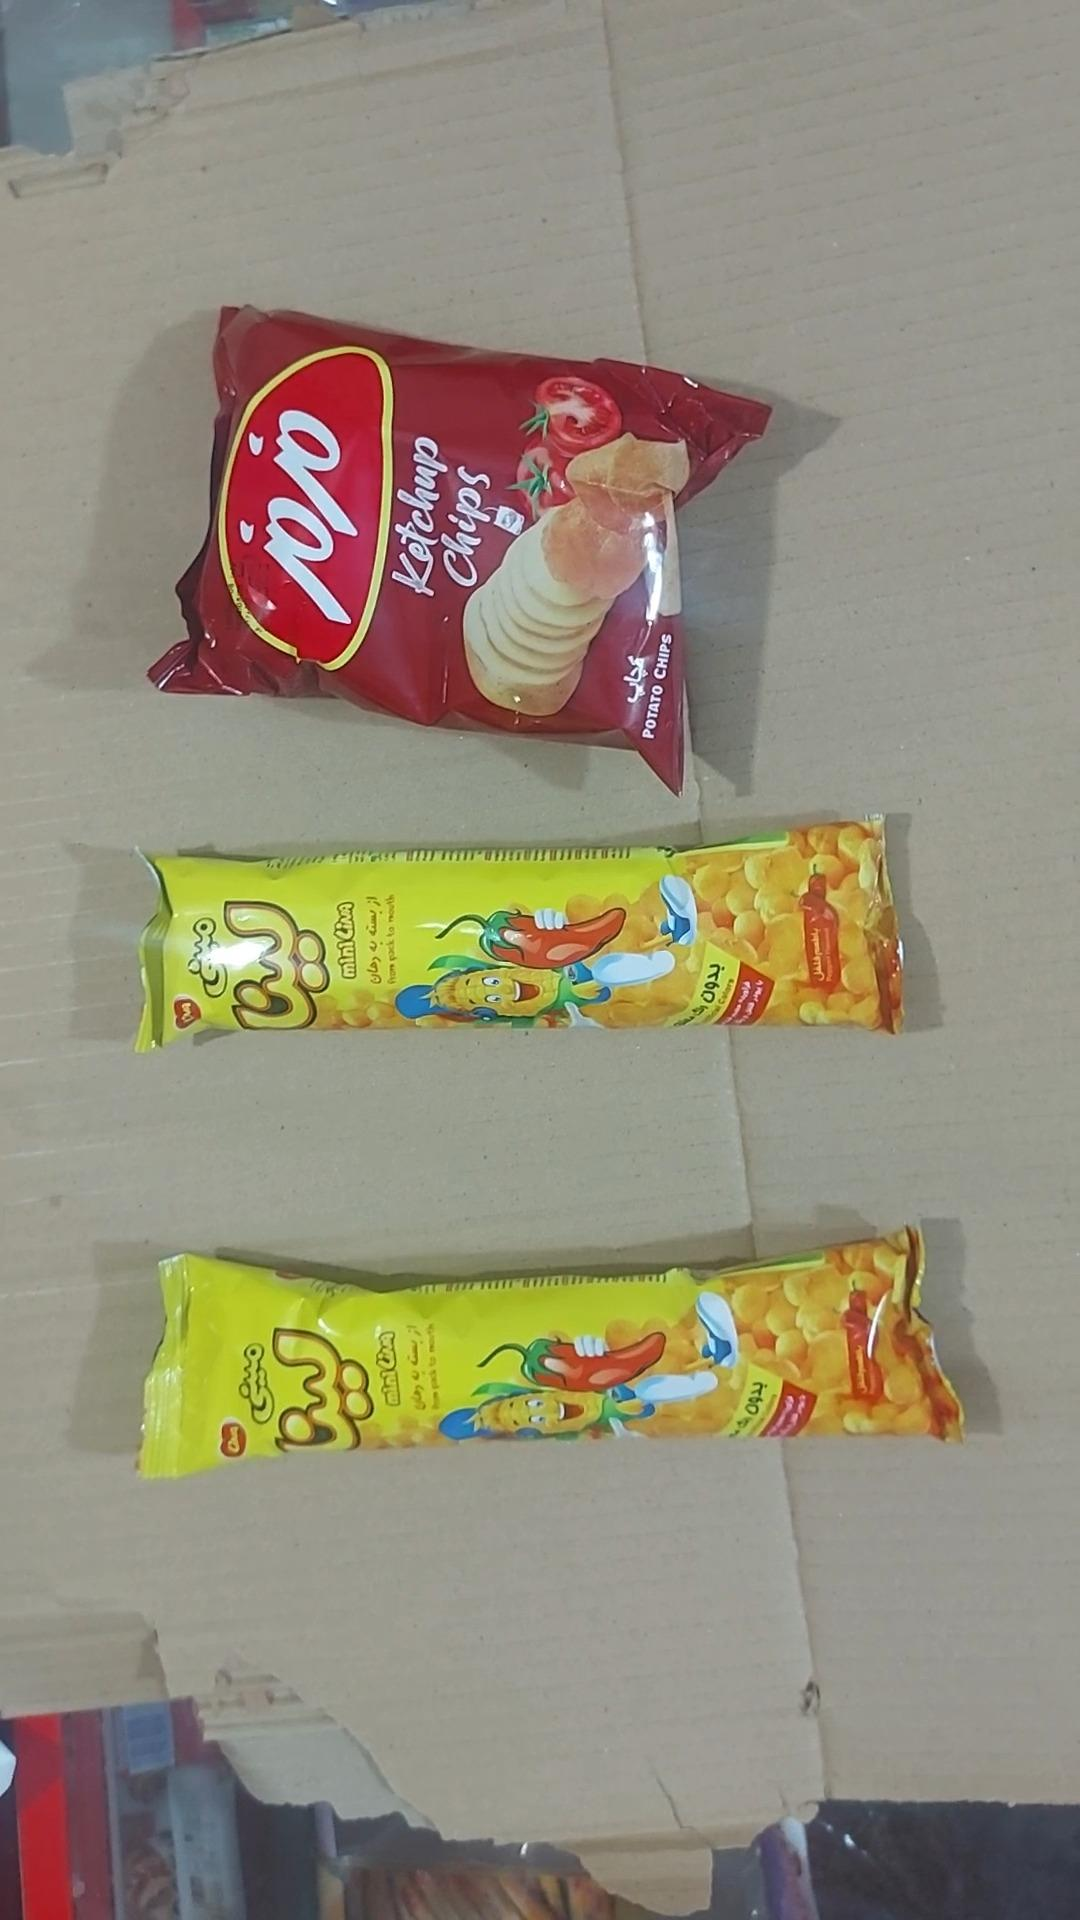Maz Maz ketchup chips: (149, 307, 770, 791)
Mini Lina: (138, 1228, 963, 1478), (135, 819, 902, 1052)
